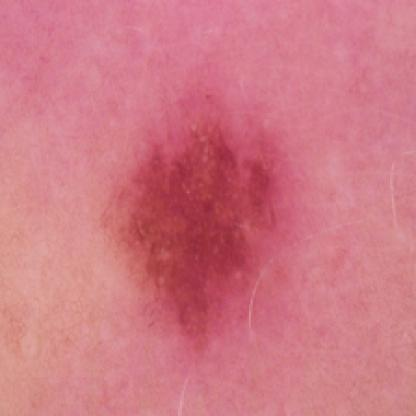benign: (117, 113, 282, 351)
